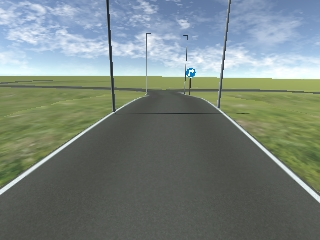right: (185, 67, 196, 77)
